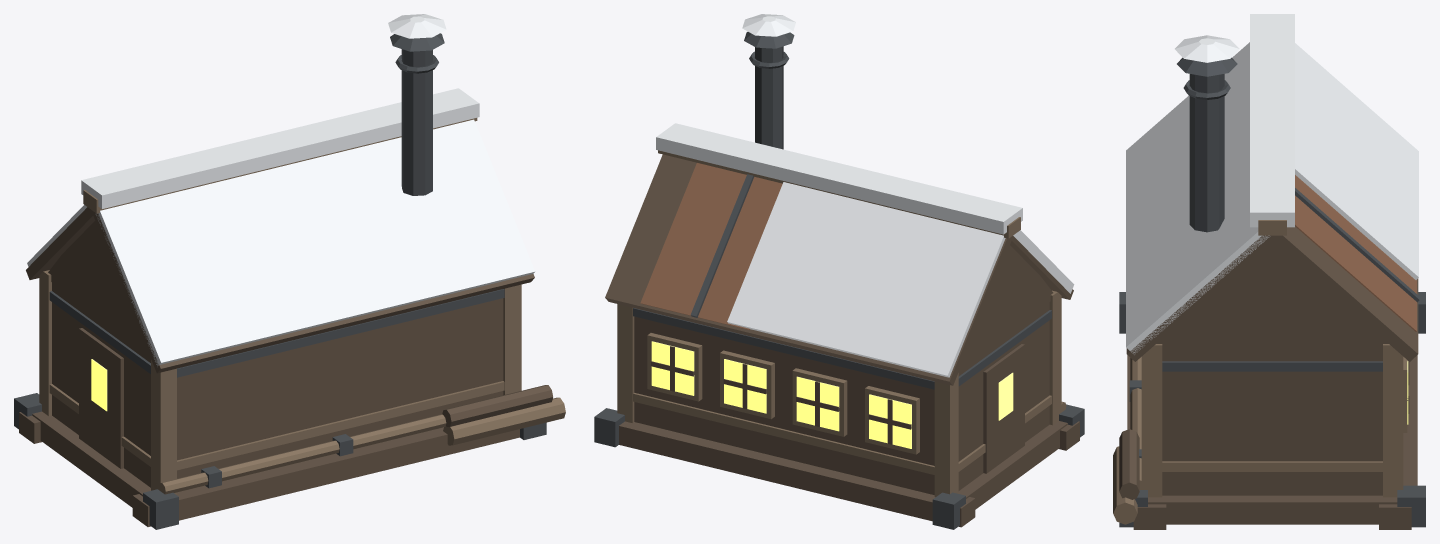
The model's file is bunkhouse.glb.
The picture shows the model from 3 angles, left to right: view 1: azimuth 30°, elevation 25°; view 2: azimuth 150°, elevation 25°; view 3: azimuth 270°, elevation 25°; orthographic projection. The views are drawn at different scales.
Parts seen in each view (by area): view 1: bunkhouse_Building; view 2: bunkhouse_Building; view 3: bunkhouse_Building.
Part boxes in pixels (box(x1,y1,x2,y2)): bunkhouse_Building: box(14, 14, 565, 529); bunkhouse_Building: box(594, 14, 1084, 529); bunkhouse_Building: box(1113, 14, 1425, 529).
Bounding box in the file's own units: 2.49 × 2.38 × 1.53.
